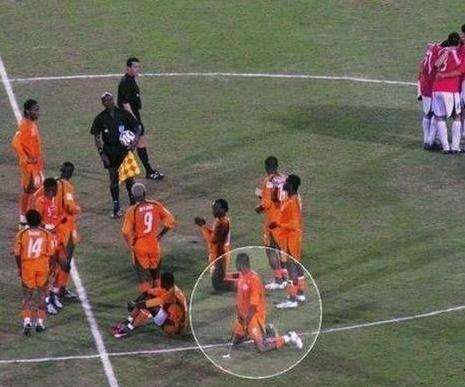10+: (6, 20, 465, 360)
down: (222, 251, 306, 353), (112, 267, 193, 343), (194, 194, 240, 289)
